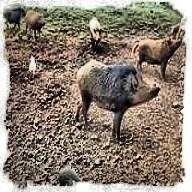boar: (74, 58, 160, 142)
